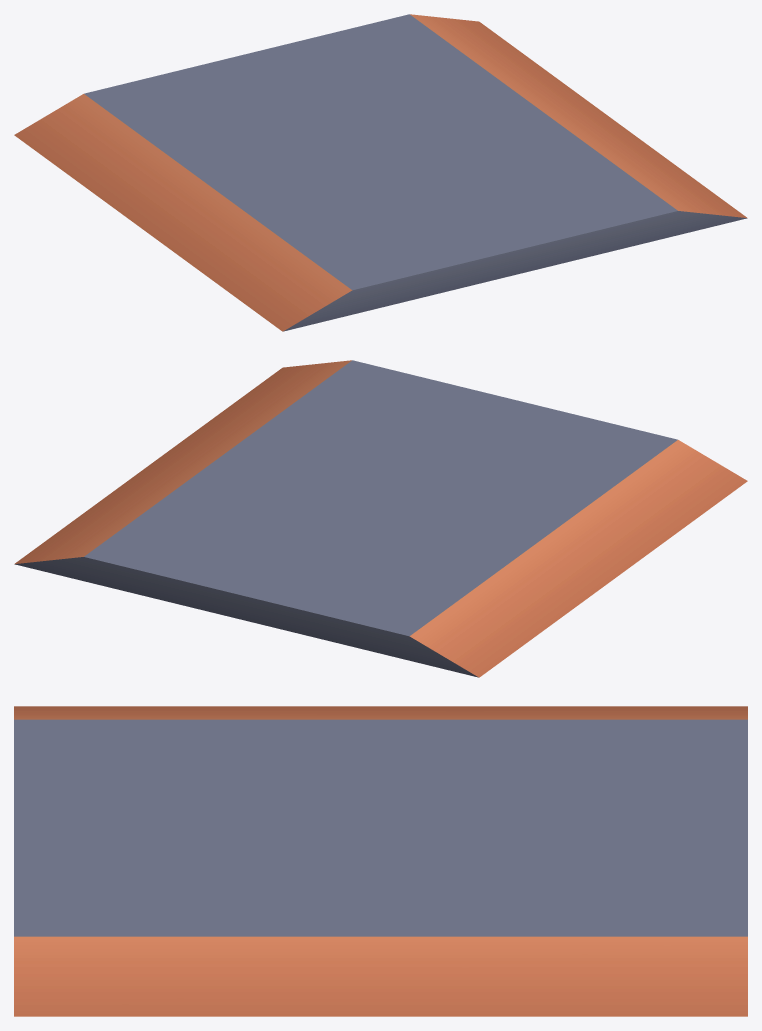
File: path-short.glb
3 renders of one model, top to bottom at view 1: azimuth 30°, elevation 25°; view 2: azimuth 150°, elevation 25°; view 3: azimuth 270°, elevation 25°, orthographic. The views are drawn at different scales.
Visible parts, largest first — view 1: path-short; view 2: path-short; view 3: path-short.
Part boxes in pixels (x1,y1,x2,y2): path-short: [14, 14, 747, 331]; path-short: [14, 360, 747, 677]; path-short: [14, 706, 747, 1016].
Size of the model in its own units: 0.2 by 0.01 by 0.2.
1 material, 1 textured.
